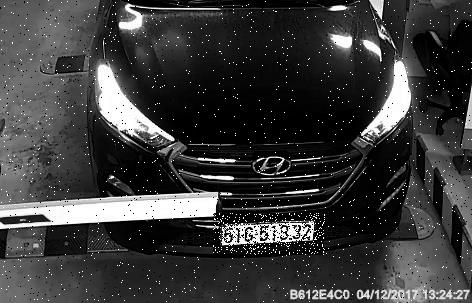License-plate: (215, 214, 327, 256)
